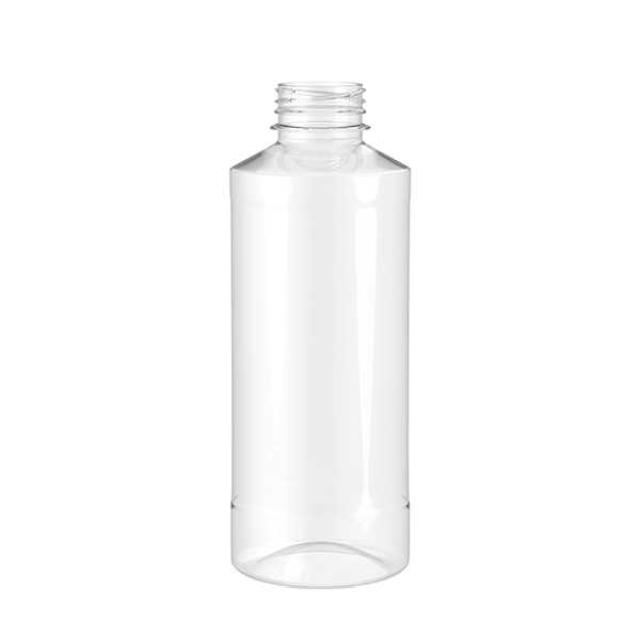bottom: (231, 505, 409, 587)
neck: (231, 82, 409, 176)
